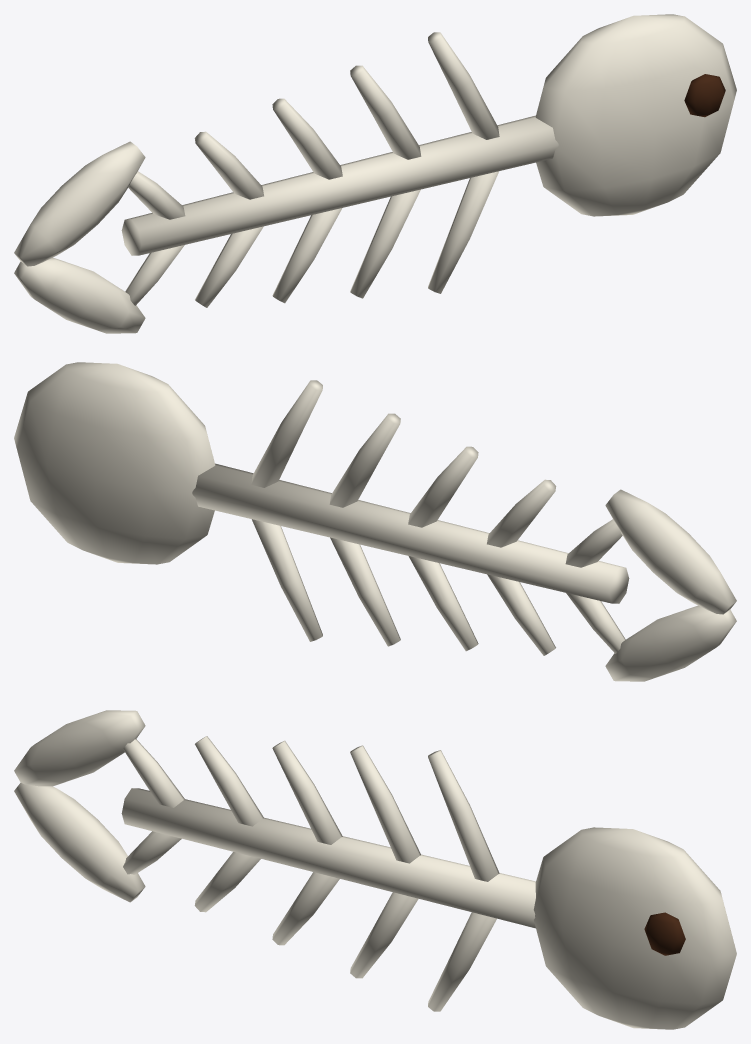
The model's file is food_fishbone.glb.
The picture shows the model from 3 angles, top to bottom: view 1: azimuth 30°, elevation 25°; view 2: azimuth 150°, elevation 25°; view 3: azimuth 330°, elevation 25°; orthographic projection.
Visible parts, largest first — view 1: food_fishbone; view 2: food_fishbone; view 3: food_fishbone.
Boxes of the visible parts, x1,y1,x2,y2 form: food_fishbone: (14,14,736,333); food_fishbone: (14,362,736,681); food_fishbone: (14,710,736,1029).
Bounding box in the file's own units: 0.416 × 0.1438 × 0.048.
